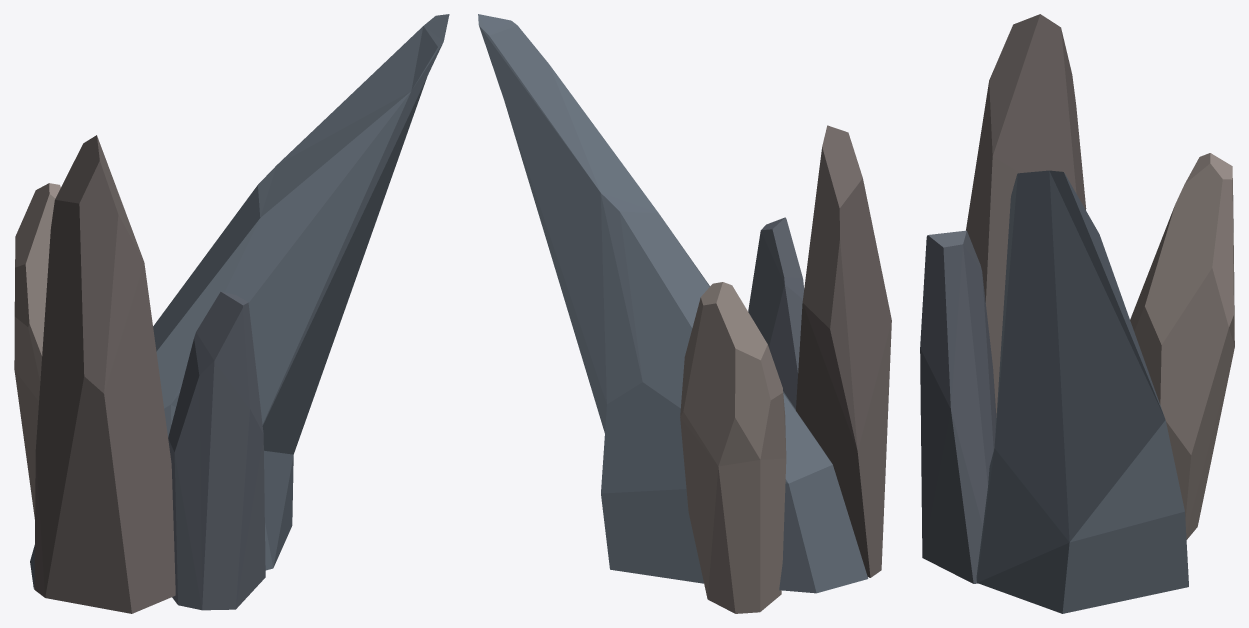
Rendered from Rocks_Sharp_l_04.fbx.
The picture shows the model from 3 angles, left to right: view 1: azimuth 30°, elevation 25°; view 2: azimuth 150°, elevation 25°; view 3: azimuth 270°, elevation 25°; orthographic projection. The views are drawn at different scales.
Parts seen in each view (by area): view 1: Rocks_Sharp_l_04; view 2: Rocks_Sharp_l_04; view 3: Rocks_Sharp_l_04.
Boxes of the visible parts, bbox=[...] form: Rocks_Sharp_l_04: bbox=[14, 14, 449, 613]; Rocks_Sharp_l_04: bbox=[478, 14, 891, 613]; Rocks_Sharp_l_04: bbox=[920, 14, 1234, 613].
Bounding box in the file's own units: 387 × 440 × 235.
